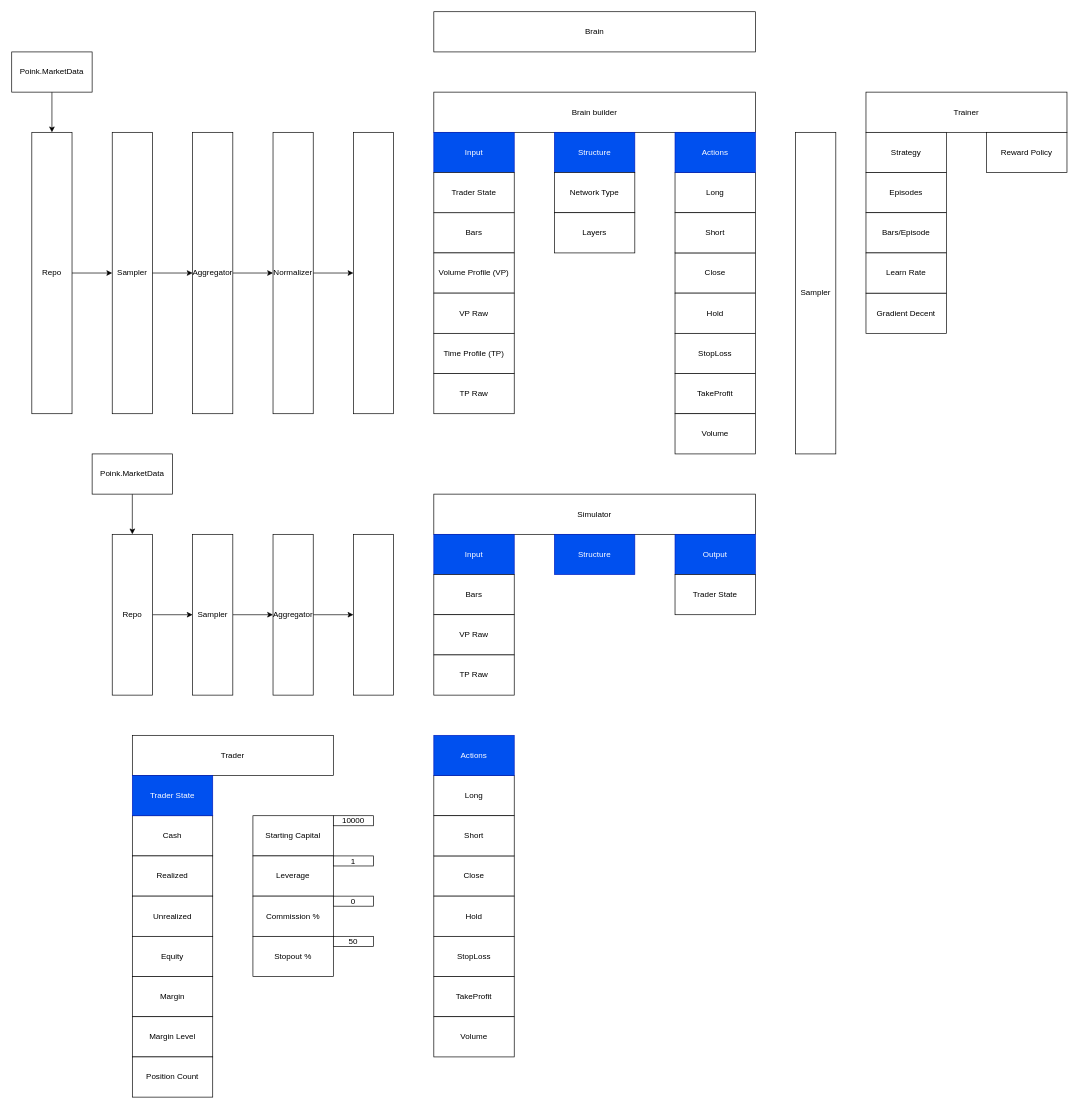
This 1079x1109 diagram has some shape labels left out. Each missing label, with the centre of its shape:
Data: point 373,614
Encoder: point 373,273
